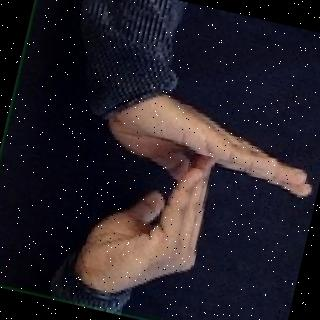Z: (87, 72, 320, 304)
